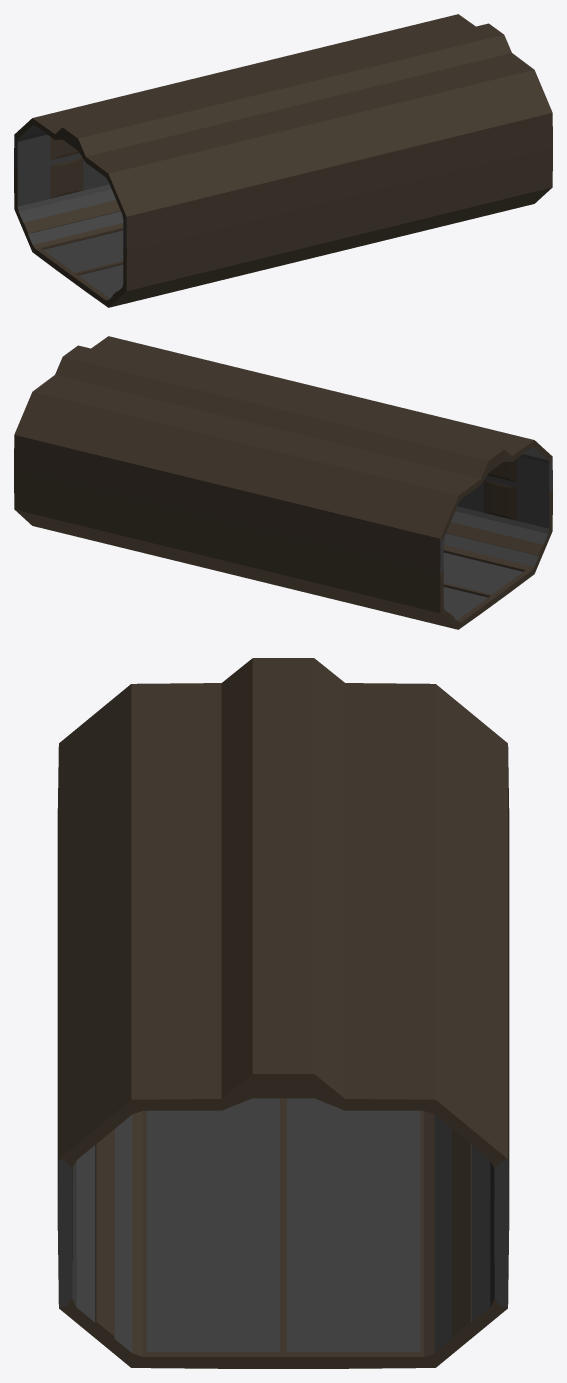
Rendered from submarine_shellblend 1.fbx.
The picture shows the model from 3 angles, top to bottom: view 1: azimuth 30°, elevation 25°; view 2: azimuth 150°, elevation 25°; view 3: azimuth 270°, elevation 25°; orthographic projection. The views are drawn at different scales.
Parts seen in each view (by area): view 1: Cube; view 2: Cube; view 3: Cube.
Part boxes in pixels (left/top/right/bottom): Cube: left=14, top=14, right=552, bottom=307; Cube: left=14, top=336, right=552, bottom=629; Cube: left=57, top=658, right=509, bottom=1368.
Bounding box in the file's own units: 3588 × 1186 × 1646.
